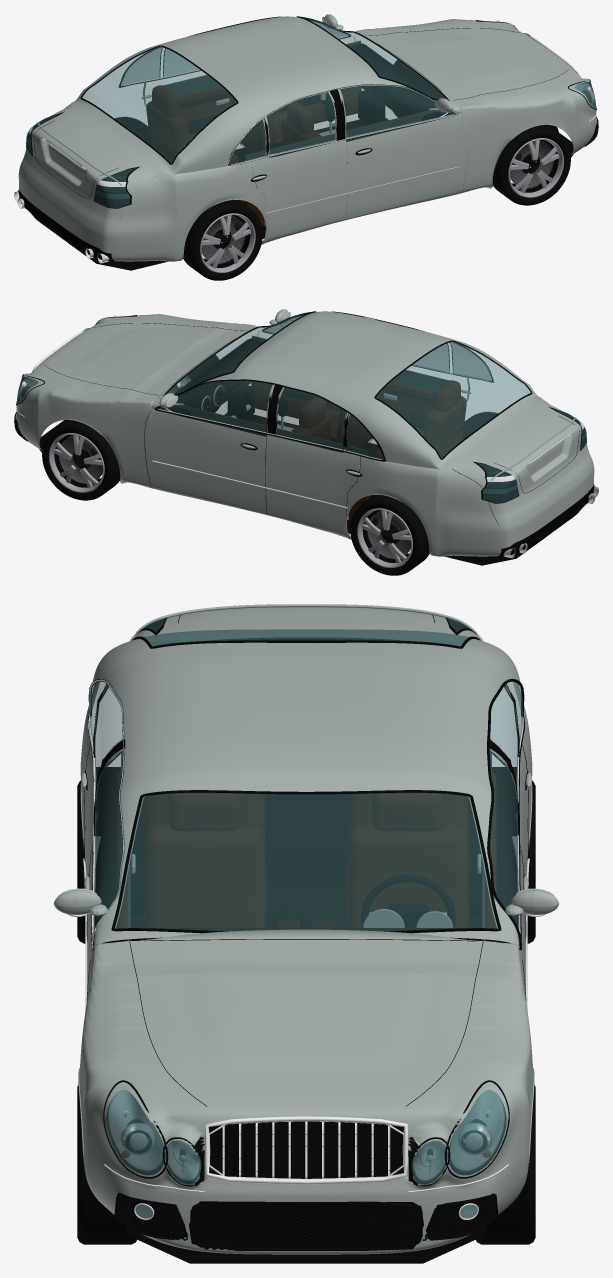
Rendered from v8-working.glb.
The picture shows the model from 3 angles, top to bottom: view 1: azimuth 30°, elevation 25°; view 2: azimuth 150°, elevation 25°; view 3: azimuth 270°, elevation 25°; orthographic projection. The views are drawn at different scales.
Visible parts, largest first — view 1: StaticOpaque_7, Door_FR__Body_skin, Glass__Rear_screen, Door_RR__Body_skin, StaticOpaque_1, DoorGlass_FR__Front_door_glass001, StaticOpaque_11, DoorGlass_RR__Rear_door_glass001, StaticOpaque_26, Wheel_RR__Tire003, Glass__Windshield, Wheel_FR__Tire001 (+19 smaller); view 2: StaticOpaque_7, Glass__Rear_screen, Door_FL__Body_skin, Door_RL__Body_skin, StaticOpaque_1, DoorGlass_FL__Front_door_glass, StaticOpaque_11, DoorGlass_RL__Rear_door_glass, StaticOpaque_26, Wheel_RL__Tire002, Glass__Windshield, Wheel_FL__Tire (+18 smaller); view 3: StaticOpaque_7, Glass__Windshield, StaticOpaque_1, StaticOpaque_18, StaticOpaque_11, StaticOpaque_16, StaticOpaque_13, StaticOpaque_20, DoorGlass_FR__Front_door_glass001, StaticOpaque_2, Glass__Rear_screen, DoorGlass_FL__Front_door_glass (+26 smaller).
Part boxes in pixels (bbox=[...]): StaticOpaque_7: bbox=[18, 16, 596, 261]; Door_FR__Body_skin: bbox=[345, 114, 468, 219]; Glass__Rear_screen: bbox=[82, 46, 236, 162]; Door_RR__Body_skin: bbox=[252, 140, 347, 244]; StaticOpaque_1: bbox=[146, 85, 321, 217]; DoorGlass_FR__Front_door_glass001: bbox=[340, 84, 455, 138]; StaticOpaque_11: bbox=[18, 72, 573, 270]; DoorGlass_RR__Rear_door_glass001: bbox=[266, 91, 336, 154]; StaticOpaque_26: bbox=[349, 43, 454, 124]; Wheel_RR__Tire003: bbox=[183, 200, 262, 280]; Glass__Windshield: bbox=[306, 18, 446, 99]; Wheel_FR__Tire001: bbox=[493, 125, 570, 205]; StaticOpaque_7: bbox=[16, 311, 594, 556]; Glass__Rear_screen: bbox=[376, 341, 530, 457]; Door_FL__Body_skin: bbox=[144, 409, 266, 514]; Door_RL__Body_skin: bbox=[265, 435, 360, 539]; StaticOpaque_1: bbox=[291, 380, 466, 512]; DoorGlass_FL__Front_door_glass: bbox=[157, 380, 272, 432]; StaticOpaque_11: bbox=[39, 406, 594, 565]; DoorGlass_RL__Rear_door_glass: bbox=[276, 387, 346, 449]; StaticOpaque_26: bbox=[158, 338, 263, 419]; Wheel_RL__Tire002: bbox=[350, 495, 429, 575]; Glass__Windshield: bbox=[166, 313, 306, 394]; Wheel_FL__Tire: bbox=[42, 420, 119, 500]; StaticOpaque_7: bbox=[78, 604, 534, 1254]; Glass__Windshield: bbox=[115, 792, 497, 931]; StaticOpaque_1: bbox=[143, 793, 469, 927]; StaticOpaque_18: bbox=[116, 1121, 496, 1248]; StaticOpaque_11: bbox=[127, 617, 485, 1263]; StaticOpaque_16: bbox=[117, 1194, 495, 1250]; StaticOpaque_13: bbox=[109, 1090, 503, 1179]; StaticOpaque_20: bbox=[88, 636, 524, 933]; DoorGlass_FR__Front_door_glass001: bbox=[93, 750, 125, 930]; StaticOpaque_2: bbox=[132, 881, 480, 927]; Glass__Rear_screen: bbox=[144, 629, 468, 646]; DoorGlass_FL__Front_door_glass: bbox=[490, 750, 519, 930].
Size of the model in its own units: 487 by 149 by 209.
